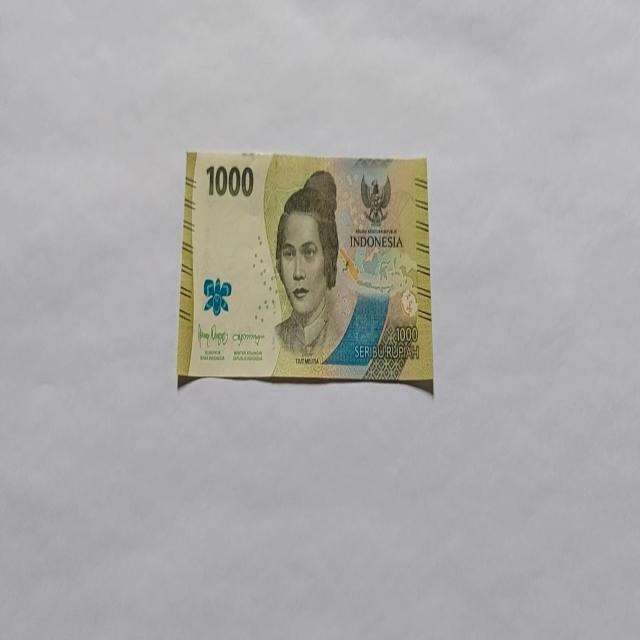seribu rupiah kertas: (176, 148, 432, 392)
